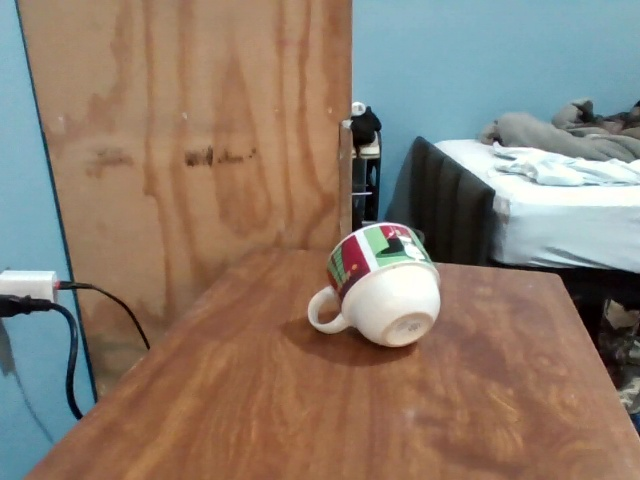taza: (305, 219, 443, 348)
